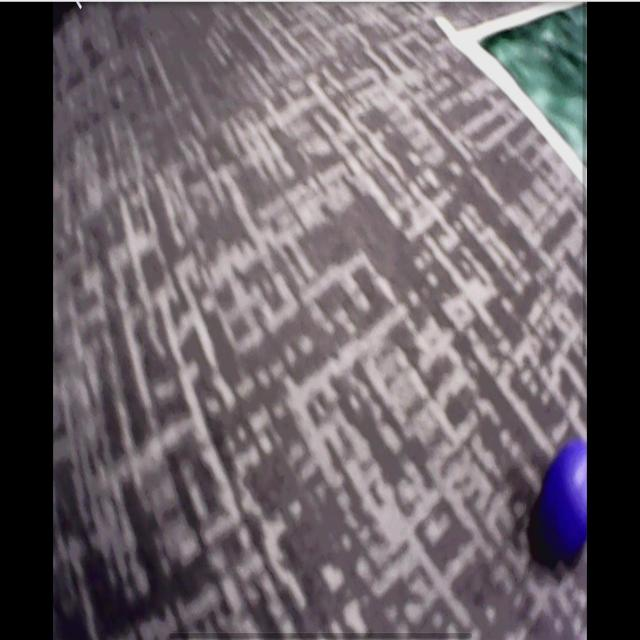ball: (547, 443, 588, 555)
